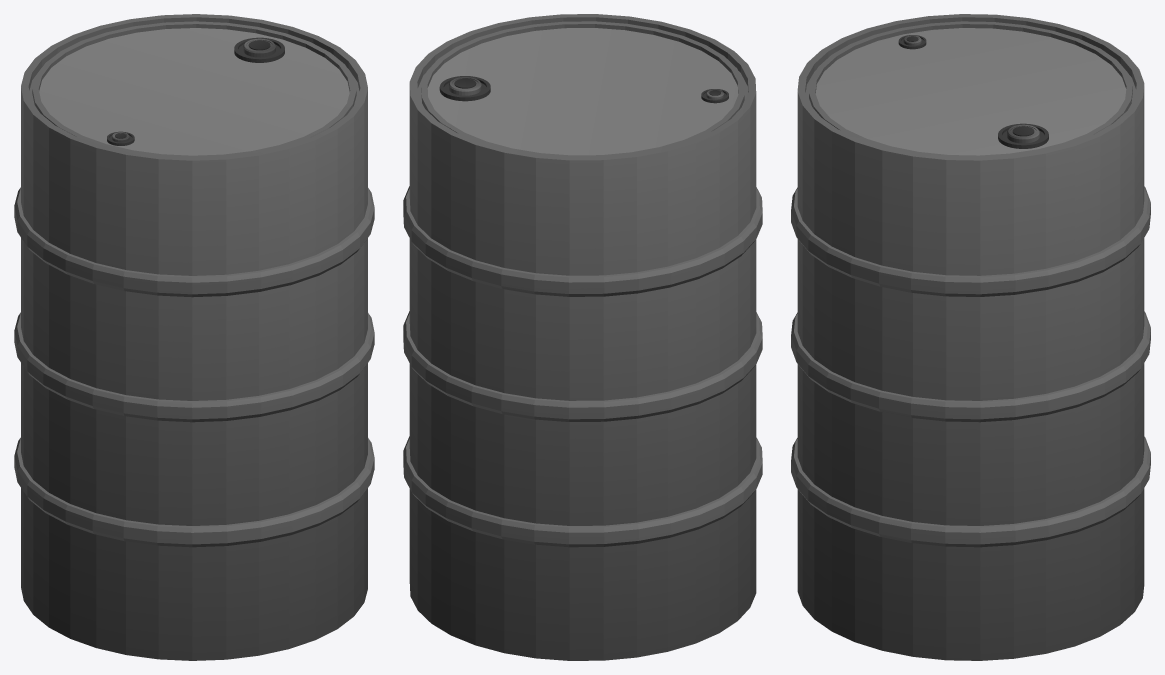
The model's file is Industrial Barrel Grey.fbx.
3 views of the same model, side by side, from view 1: azimuth 30°, elevation 25°; view 2: azimuth 150°, elevation 25°; view 3: azimuth 270°, elevation 25° (orthographic).
Visible parts, largest first — view 1: Industrial Barrel #3; view 2: Industrial Barrel #3; view 3: Industrial Barrel #3.
Part boxes in pixels (x1,y1,x2,y2): Industrial Barrel #3: [14, 14, 374, 660]; Industrial Barrel #3: [403, 14, 762, 660]; Industrial Barrel #3: [791, 14, 1150, 660].
Size of the model in its own units: 429 by 279 by 279.
1 material, 1 textured.
